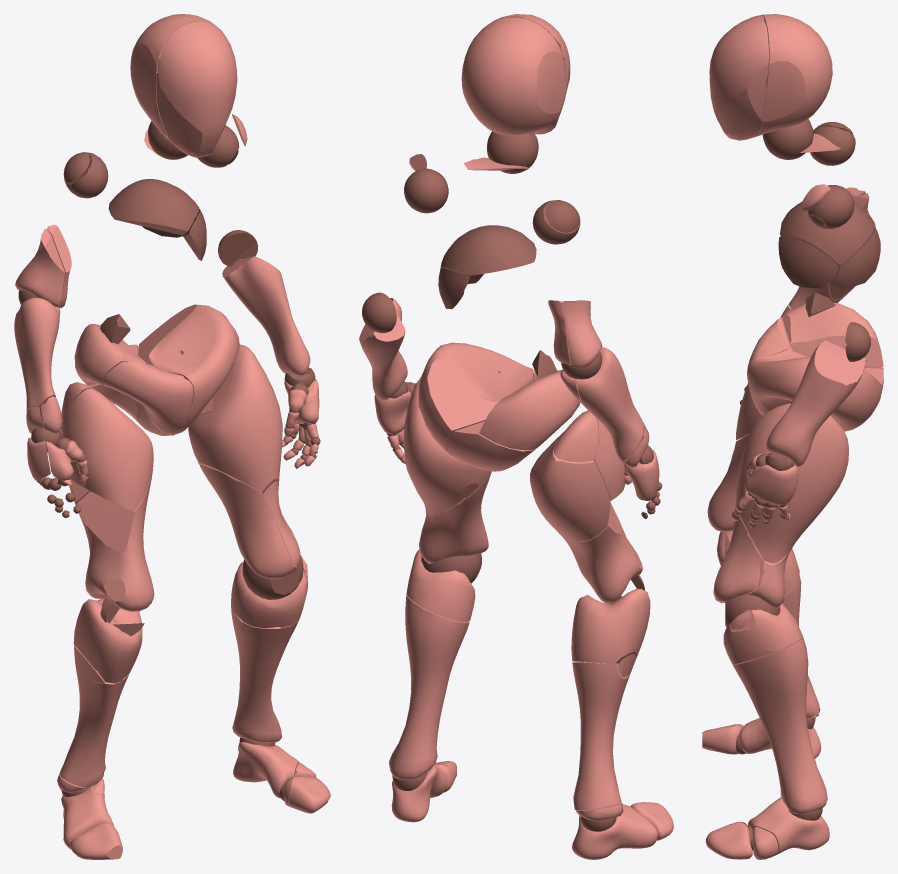
File: Fracture Type 2.fbx
3 renders of one model, left to right at view 1: azimuth 30°, elevation 25°; view 2: azimuth 150°, elevation 25°; view 3: azimuth 270°, elevation 25°, orthographic. The views are drawn at different scales.
Visible parts, largest first — view 1: Beta_Surface_cell.024, Beta_Surface_cell.003, Beta_Surface_cell.019, Beta_Surface_cell.025, Beta_Surface_cell.031, Beta_Surface_cell.069, Beta_Surface_cell.066, Beta_Surface_cell.022, Beta_Surface_cell.008, Beta_Surface_cell.020, Beta_Surface_cell.010, Beta_Surface_cell.054 (+18 smaller); view 2: Beta_Surface_cell.023, Beta_Surface_cell.069, Beta_Surface_cell.022, Beta_Surface_cell.020, Beta_Surface_cell.066, Beta_Surface_cell.006, Beta_Surface_cell.001, Beta_Surface_cell.024, Beta_Surface_cell.010, Beta_Surface_cell.025, Beta_Surface_cell.031, Beta_Joints_cell.049 (+17 smaller); view 3: Beta_Surface_cell.022, Beta_Surface_cell.025, Beta_Surface_cell.024, Beta_Surface_cell.023, Beta_Surface_cell.003, Beta_Surface_cell.069, Beta_Surface_cell.001, Beta_Joints_cell.049, Beta_Surface_cell.009, Beta_Surface_cell.032, Beta_Surface_cell.056, Beta_Joints_cell.037 (+20 smaller).
Boxes of the visible parts, left/top/right/bottom form: Beta_Surface_cell.024: left=188, top=344, right=282, bottom=496; Beta_Surface_cell.003: left=156, top=20, right=237, bottom=157; Beta_Surface_cell.019: left=46, top=388, right=153, bottom=511; Beta_Surface_cell.025: left=222, top=256, right=319, bottom=460; Beta_Surface_cell.031: left=76, top=469, right=154, bottom=611; Beta_Surface_cell.069: left=138, top=304, right=239, bottom=435; Beta_Surface_cell.066: left=14, top=228, right=64, bottom=422; Beta_Surface_cell.022: left=231, top=601, right=298, bottom=742; Beta_Surface_cell.008: left=200, top=464, right=296, bottom=579; Beta_Surface_cell.020: left=60, top=645, right=129, bottom=793; Beta_Surface_cell.010: left=73, top=597, right=142, bottom=683; Beta_Surface_cell.054: left=102, top=361, right=193, bottom=433; Beta_Surface_cell.023: left=461, top=17, right=566, bottom=135; Beta_Surface_cell.069: left=418, top=342, right=533, bottom=455; Beta_Surface_cell.022: left=389, top=594, right=469, bottom=779; Beta_Surface_cell.020: left=572, top=662, right=630, bottom=810; Beta_Surface_cell.066: left=563, top=300, right=643, bottom=460; Beta_Surface_cell.006: left=530, top=437, right=610, bottom=541; Beta_Surface_cell.001: left=479, top=371, right=579, bottom=450; Beta_Surface_cell.024: left=403, top=377, right=491, bottom=515; Beta_Surface_cell.010: left=571, top=588, right=650, bottom=664; Beta_Surface_cell.025: left=359, top=298, right=416, bottom=463; Beta_Surface_cell.031: left=557, top=503, right=642, bottom=603; Beta_Joints_cell.049: left=440, top=225, right=536, bottom=275; Beta_Surface_cell.022: left=732, top=637, right=827, bottom=813; Beta_Surface_cell.025: left=739, top=340, right=866, bottom=524; Beta_Surface_cell.024: left=735, top=403, right=848, bottom=563; Beta_Surface_cell.023: left=758, top=14, right=832, bottom=135; Beta_Surface_cell.003: left=709, top=15, right=768, bottom=140; Beta_Surface_cell.069: left=747, top=349, right=881, bottom=431; Beta_Surface_cell.001: left=782, top=302, right=883, bottom=367; Beta_Joints_cell.049: left=780, top=201, right=874, bottom=265; Beta_Surface_cell.009: left=723, top=603, right=802, bottom=664; Beta_Surface_cell.032: left=714, top=518, right=761, bottom=601; Beta_Surface_cell.056: left=739, top=797, right=829, bottom=854; Beta_Joints_cell.037: left=778, top=236, right=838, bottom=287.
Bounding box in the file's own units: 64.16 × 175 × 36.55.
